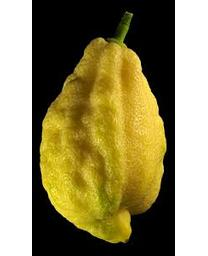lemon: (41, 37, 166, 244)
